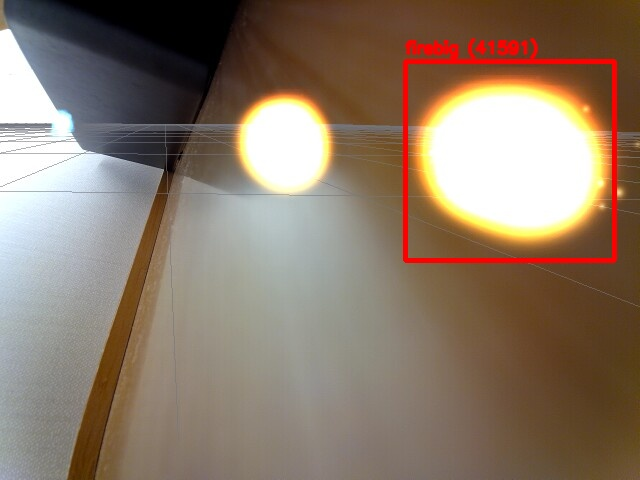firebig: (405, 61, 614, 260)
